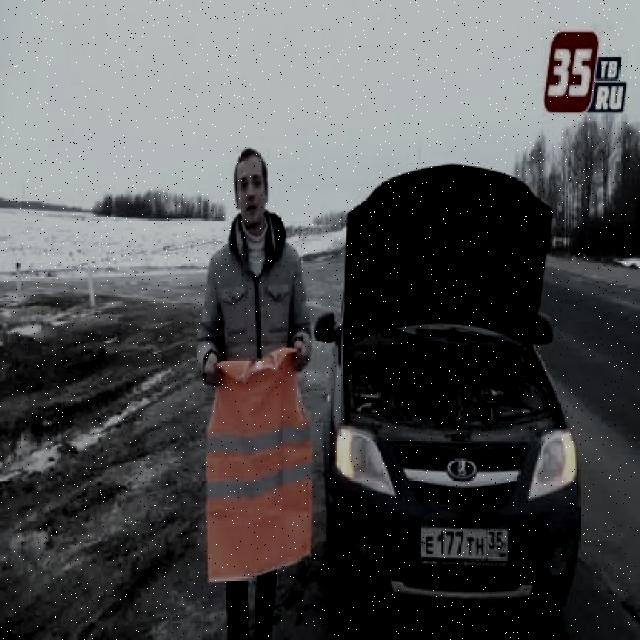Mask: (203, 346, 314, 588)
